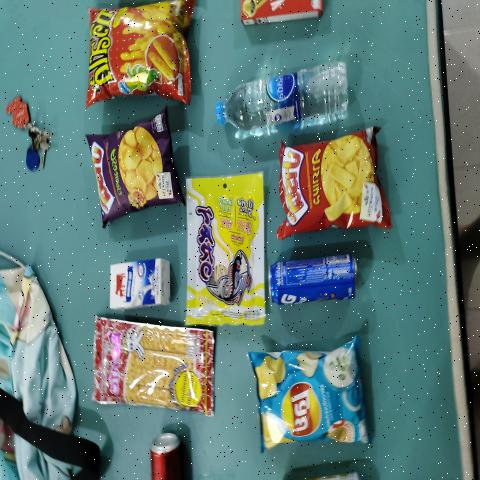bento_red: (93, 327, 216, 407)
crystal: (213, 61, 355, 133)
lay_blue: (266, 355, 360, 442)
party_purple: (89, 122, 180, 217)
party_red: (287, 138, 375, 230)
pepsi_blue: (270, 248, 362, 308)
taro_yellow: (192, 179, 258, 322)
thai_denmark: (108, 257, 171, 310)
twisco: (85, 3, 187, 99)
